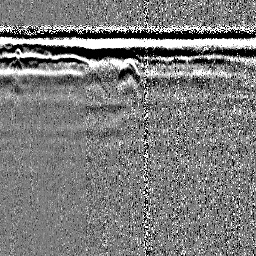cavity: (117, 55, 140, 78)
